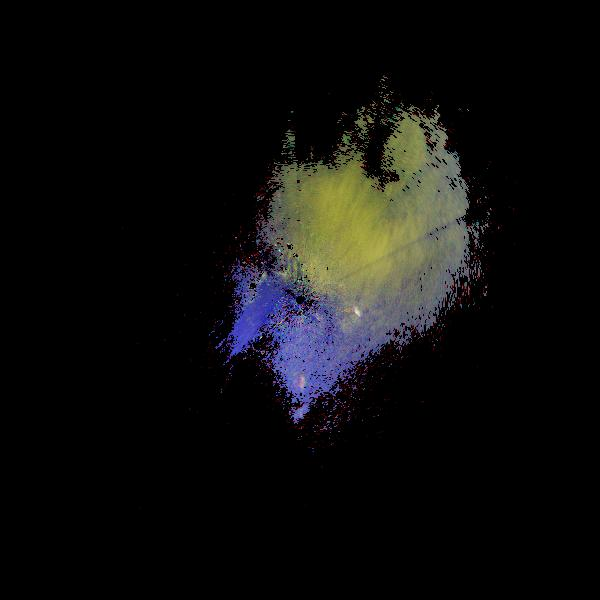roost: (294, 374, 312, 392), (350, 305, 365, 320)
